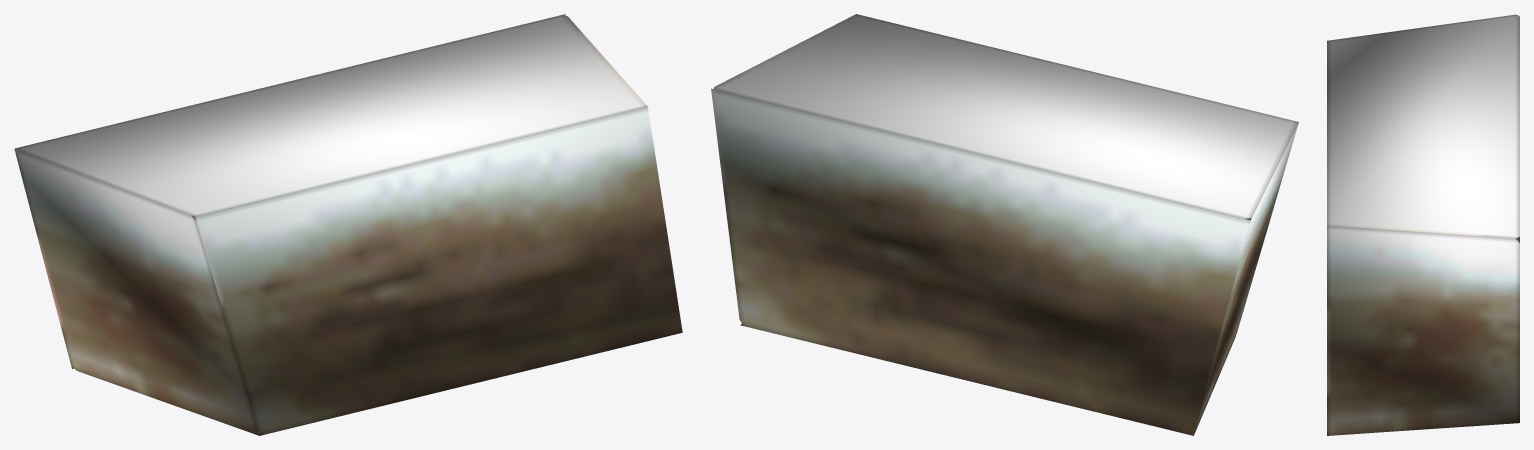
3 views of the same model, side by side, from view 1: azimuth 30°, elevation 25°; view 2: azimuth 150°, elevation 25°; view 3: azimuth 270°, elevation 25° (orthographic). The views are drawn at different scales.
Parts seen in each view (by area): view 1: T1L9M001_9; view 2: T1L9M001_9; view 3: T1L9M001_9.
Boxes of the visible parts, x1,y1,x2,y2 form: T1L9M001_9: (14, 14, 682, 435); T1L9M001_9: (711, 14, 1298, 435); T1L9M001_9: (1327, 14, 1519, 435).
Size of the model in its own units: 1.32 by 0.5342 by 0.4756.
